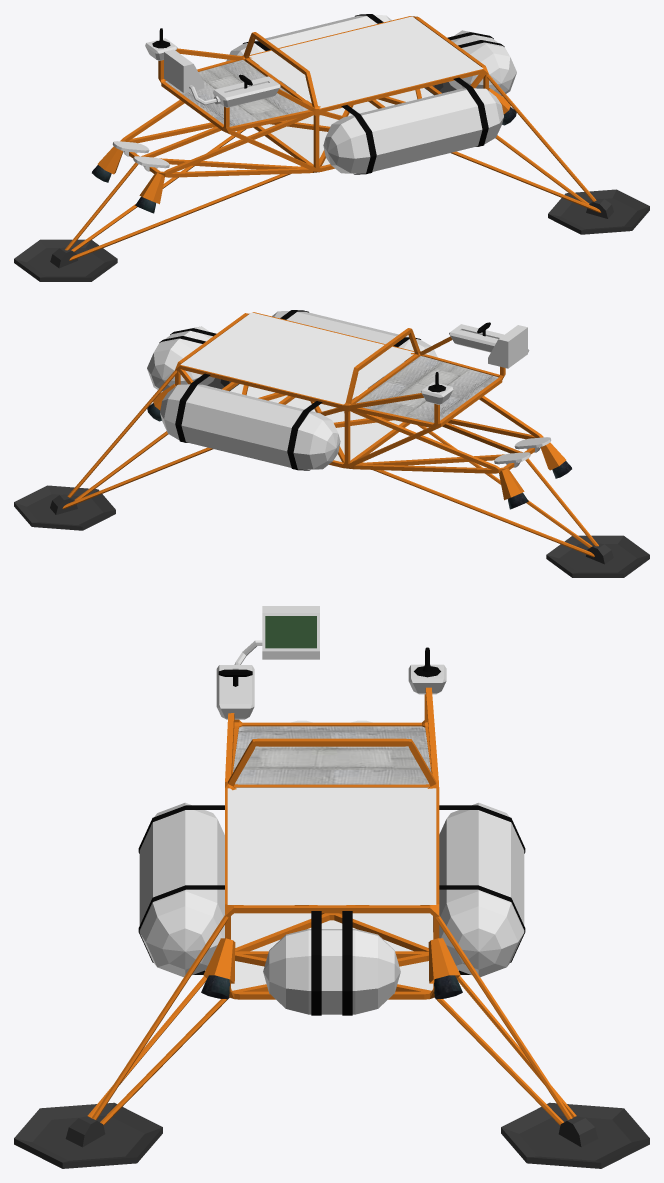
Rendered from Skipper.glb.
3 views of the same model, one above another, from view 1: azimuth 30°, elevation 25°; view 2: azimuth 150°, elevation 25°; view 3: azimuth 270°, elevation 25° (orthographic). The views are drawn at different scales.
Parts seen in each view (by area): view 1: Plane, Sphere.002, Skipper.004, Skipper.006, Circle.005, Circle.004, Sphere.003, Cube.016, Cube.022, Cube.008, Circle, Circle.001; view 2: Plane, Sphere.002, Skipper.004, Skipper.006, Circle.005, Circle.004, Sphere.003, Cube.016, Cube.022, Cube.008, Circle.001, Circle; view 3: Plane, Sphere.002, Circle.005, Skipper.004, Sphere.003, Skipper.006, Cube.016, Cube.023, Cube.022, Circle.002, Circle.003.
Boxes of the visible parts, box(x1,y1,x2,y2) form: Plane: box(165, 16, 483, 165); Sphere.002: box(226, 14, 503, 174); Skipper.004: box(120, 16, 488, 177); Skipper.006: box(65, 74, 600, 260); Circle.005: box(424, 82, 649, 234); Circle.004: box(14, 239, 117, 281); Sphere.003: box(447, 30, 516, 96); Cube.016: box(145, 28, 280, 107); Cube.022: box(164, 49, 203, 92); Cube.008: box(112, 141, 169, 171); Circle: box(139, 172, 164, 204); Circle.001: box(97, 146, 122, 174); Plane: box(180, 312, 498, 461); Sphere.002: box(160, 310, 437, 470); Skipper.004: box(175, 312, 543, 473); Skipper.006: box(62, 370, 598, 557); Circle.005: box(14, 378, 239, 530); Circle.004: box(546, 535, 649, 577); Sphere.003: box(147, 326, 216, 392); Cube.016: box(421, 322, 503, 404); Cube.022: box(488, 325, 527, 368); Cube.008: box(494, 437, 551, 467); Circle.001: box(499, 468, 524, 500); Circle: box(541, 442, 566, 470); Plane: box(227, 726, 436, 990); Sphere.002: box(138, 802, 525, 977); Circle.005: box(14, 1102, 649, 1168); Skipper.004: box(225, 687, 439, 999); Sphere.003: box(263, 911, 400, 1015); Skipper.006: box(87, 915, 576, 1125); Cube.016: box(216, 647, 446, 719); Cube.023: box(265, 616, 316, 648); Cube.022: box(262, 606, 319, 659); Circle.002: box(428, 938, 460, 983); Circle.003: box(203, 938, 235, 983).
Size of the model in its own units: 2.45 by 0.8582 by 1.74.
12 materials, 2 textured.
